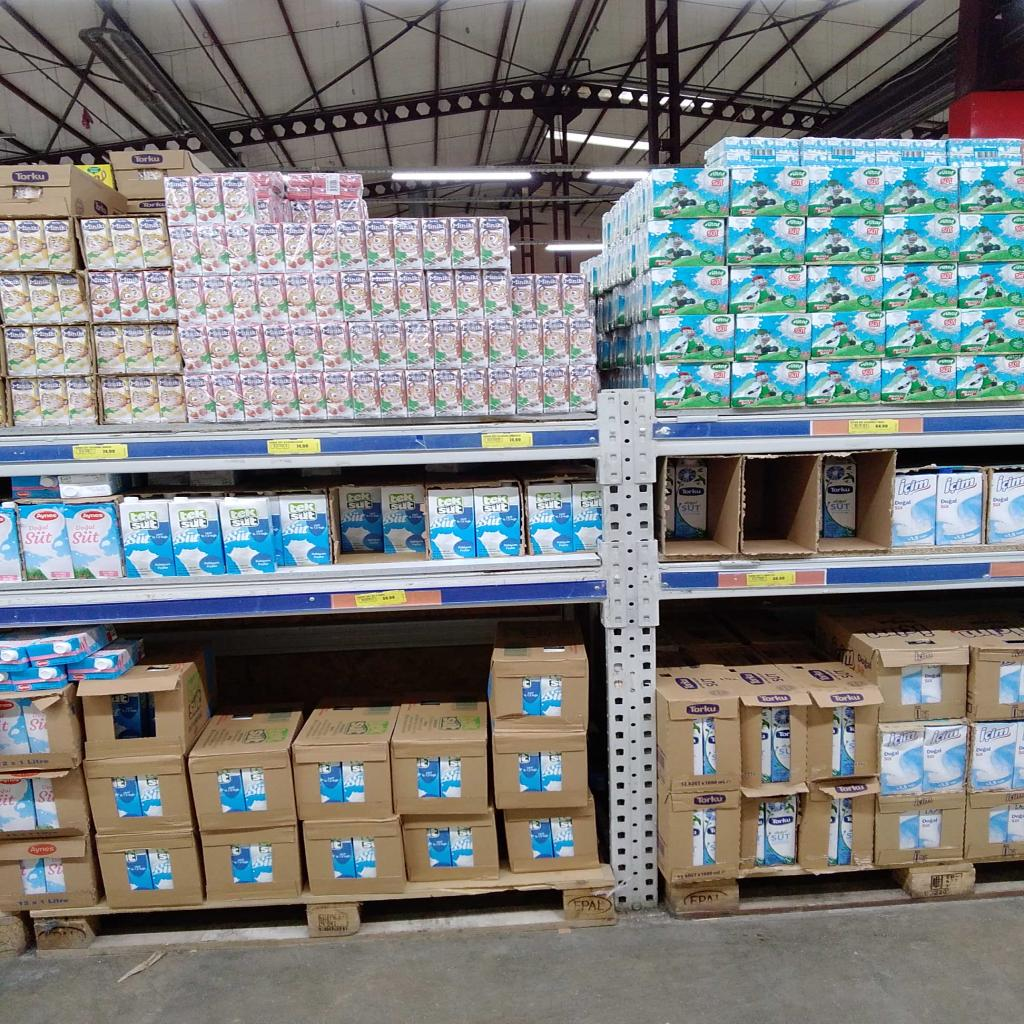price_tag: (354, 590, 406, 607), (73, 444, 128, 460), (267, 439, 320, 455), (746, 571, 796, 587), (481, 433, 533, 448), (848, 419, 899, 434)
product: (6, 378, 106, 430), (165, 221, 260, 274), (164, 172, 254, 227), (94, 375, 191, 426), (80, 216, 174, 268), (636, 168, 729, 220), (337, 217, 426, 271), (0, 326, 96, 376), (514, 317, 607, 367), (87, 268, 176, 320), (2, 275, 92, 326), (348, 316, 433, 370), (728, 260, 807, 318), (64, 503, 124, 579), (92, 322, 183, 372), (252, 217, 336, 271), (271, 493, 332, 567), (424, 213, 506, 268), (120, 497, 175, 578), (171, 497, 227, 576), (340, 270, 428, 320), (18, 503, 75, 580), (220, 496, 276, 574), (429, 270, 513, 321), (808, 211, 882, 268), (433, 319, 515, 370), (180, 374, 267, 422), (179, 323, 265, 371), (805, 262, 884, 314), (0, 220, 76, 274), (433, 368, 518, 416), (651, 361, 732, 411), (504, 272, 592, 318), (266, 372, 354, 418), (178, 274, 262, 322), (727, 167, 807, 217), (646, 265, 726, 315), (644, 221, 729, 268), (808, 167, 886, 218), (726, 215, 806, 264), (262, 322, 347, 368), (513, 367, 599, 412), (886, 162, 959, 215), (651, 312, 731, 360), (351, 370, 433, 416), (260, 274, 342, 320), (886, 261, 958, 313), (884, 214, 960, 262), (728, 361, 807, 407), (812, 310, 883, 360), (733, 311, 803, 361), (882, 356, 958, 402), (937, 471, 983, 546), (892, 472, 937, 548), (956, 260, 1024, 310), (528, 482, 575, 554), (474, 485, 521, 557), (428, 487, 475, 559), (808, 358, 883, 403), (958, 163, 1024, 210), (960, 356, 1024, 404), (961, 211, 1024, 259), (959, 308, 1022, 355), (888, 314, 959, 355), (987, 466, 1023, 546), (573, 481, 603, 552)
